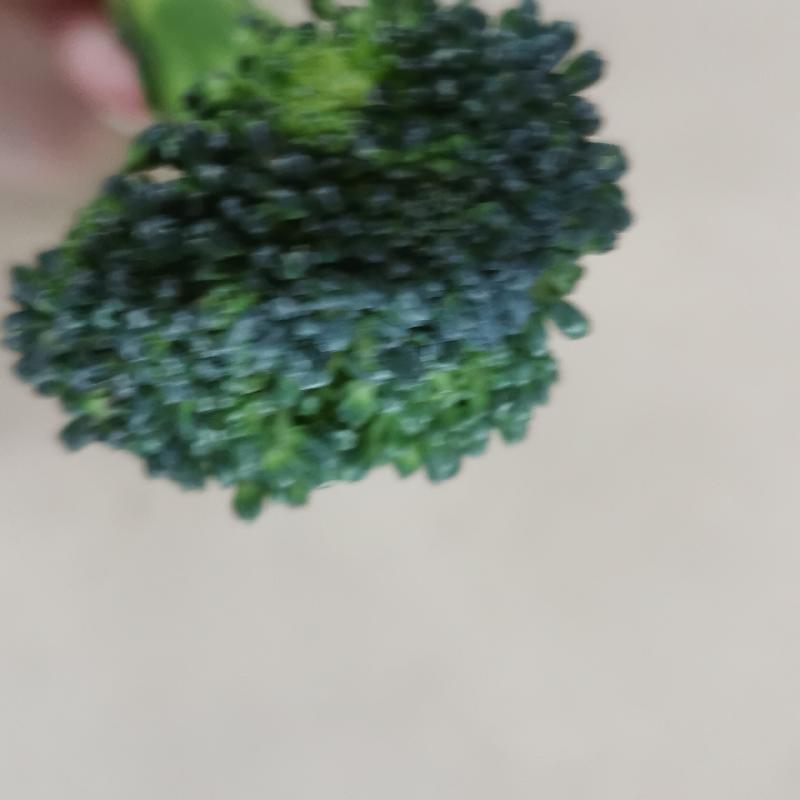broccoli: (5, 0, 636, 522)
